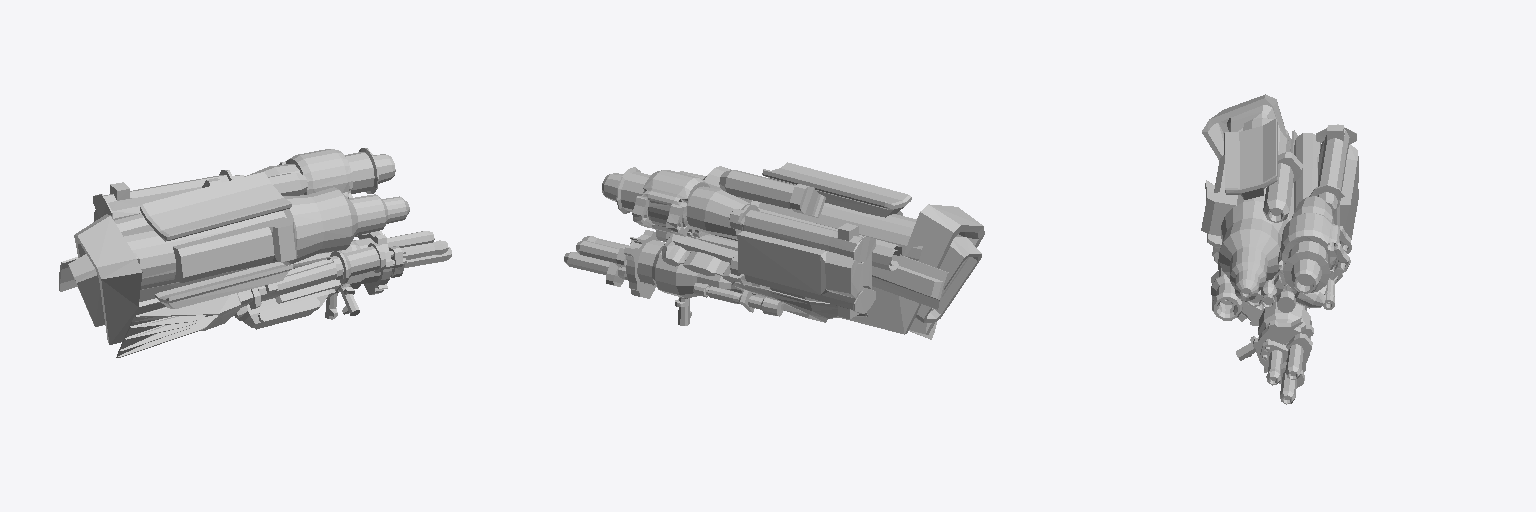
File: WEP-Optimus JetPack Gun Right.obj
3 views of the same model, side by side, from view 1: azimuth 30°, elevation 25°; view 2: azimuth 150°, elevation 25°; view 3: azimuth 270°, elevation 25° (orthographic).
Visible parts, largest first — view 1: C_Reference_XR; view 2: C_Reference_XR; view 3: C_Reference_XR.
Part boxes in pixels (x1,y1,x2,y2): C_Reference_XR: (59, 148, 451, 357); C_Reference_XR: (564, 162, 984, 339); C_Reference_XR: (1201, 94, 1358, 404).
Size of the model in its own units: 451 by 183 by 156.